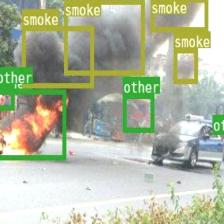smoke: (63, 0, 144, 74), (22, 25, 92, 87), (150, 0, 207, 31), (173, 48, 197, 82)
